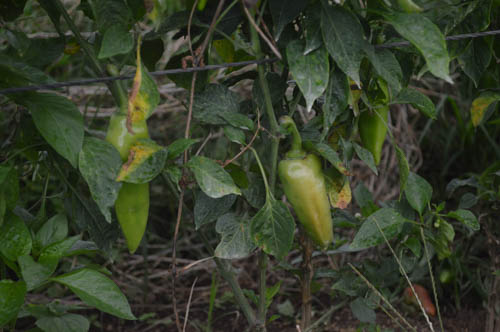ChiliPepper: (105, 114, 154, 249), (281, 157, 337, 245), (361, 85, 390, 166)
